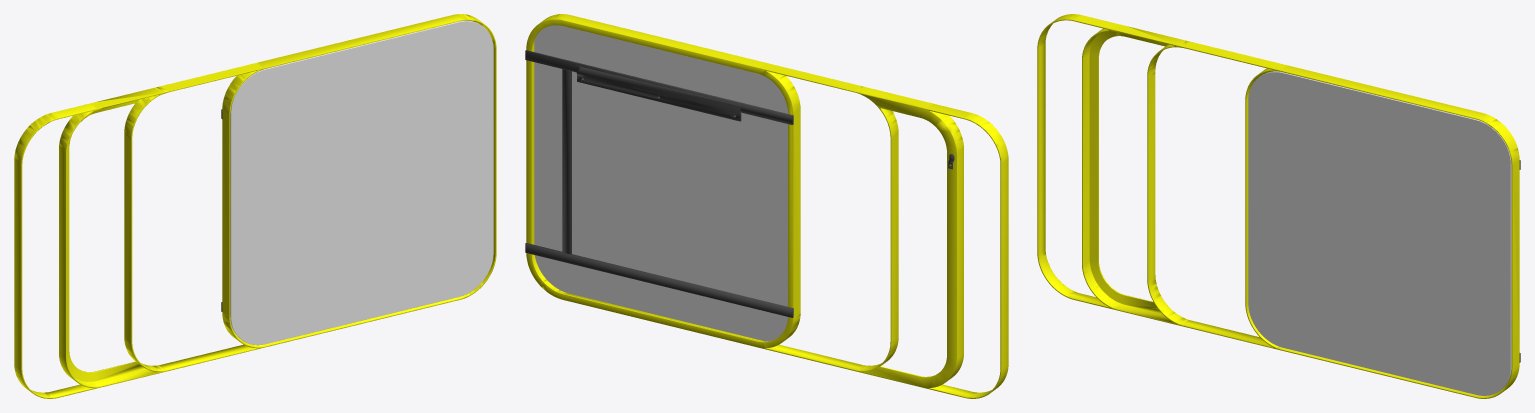
File: designconnected-good-vibes-mirror-9960.optimized.glb
3 renders of one model, left to right at view 1: azimuth 30°, elevation 25°; view 2: azimuth 150°, elevation 25°; view 3: azimuth 330°, elevation 25°, orthographic.
Visible parts, largest first — view 1: Ligne_Roset_Good_vibes; view 2: Ligne_Roset_Good_vibes; view 3: Ligne_Roset_Good_vibes.
Boxes of the visible parts, x1,y1,x2,y2 form: Ligne_Roset_Good_vibes: (14, 14, 496, 398); Ligne_Roset_Good_vibes: (525, 14, 1008, 398); Ligne_Roset_Good_vibes: (1037, 14, 1520, 398).
Size of the model in its own units: 1.6 by 0.9 by 0.05.
